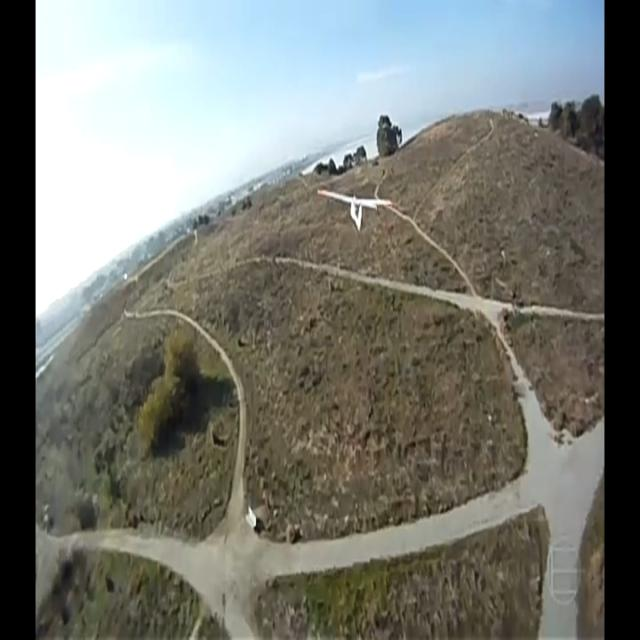iha: (349, 188, 361, 233)
